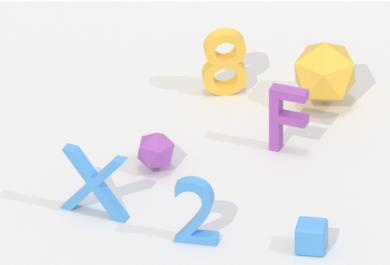0-TronCanh: (293, 37, 359, 107), (288, 209, 334, 262), (134, 128, 177, 174)
2: (169, 170, 225, 252)
8: (199, 24, 252, 101)
F: (265, 79, 311, 157)
X: (55, 140, 133, 230)
